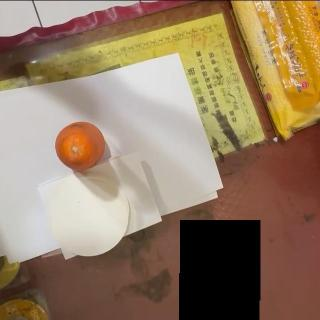carrot: (55, 121, 105, 171)
